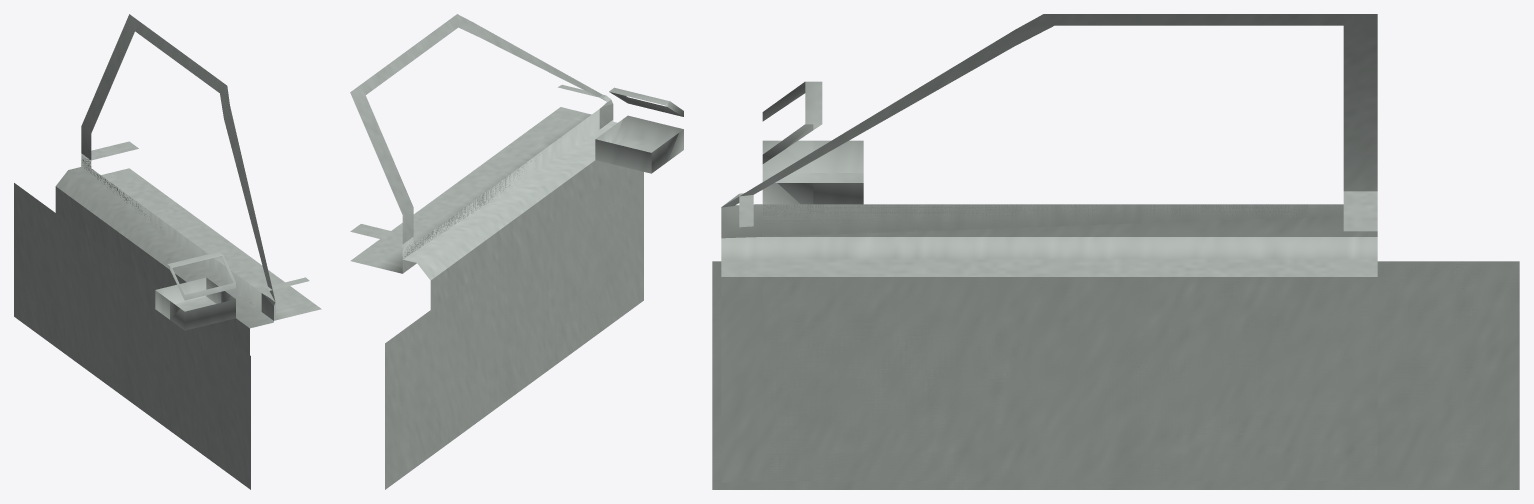
The picture shows the model from 3 angles, left to right: view 1: azimuth 30°, elevation 25°; view 2: azimuth 150°, elevation 25°; view 3: azimuth 270°, elevation 25°; orthographic projection. The views are drawn at different scales.
Size of the model in its own units: 0.39 by 0.94 by 1.28.
Materials: 1 (1 with a texture image).
